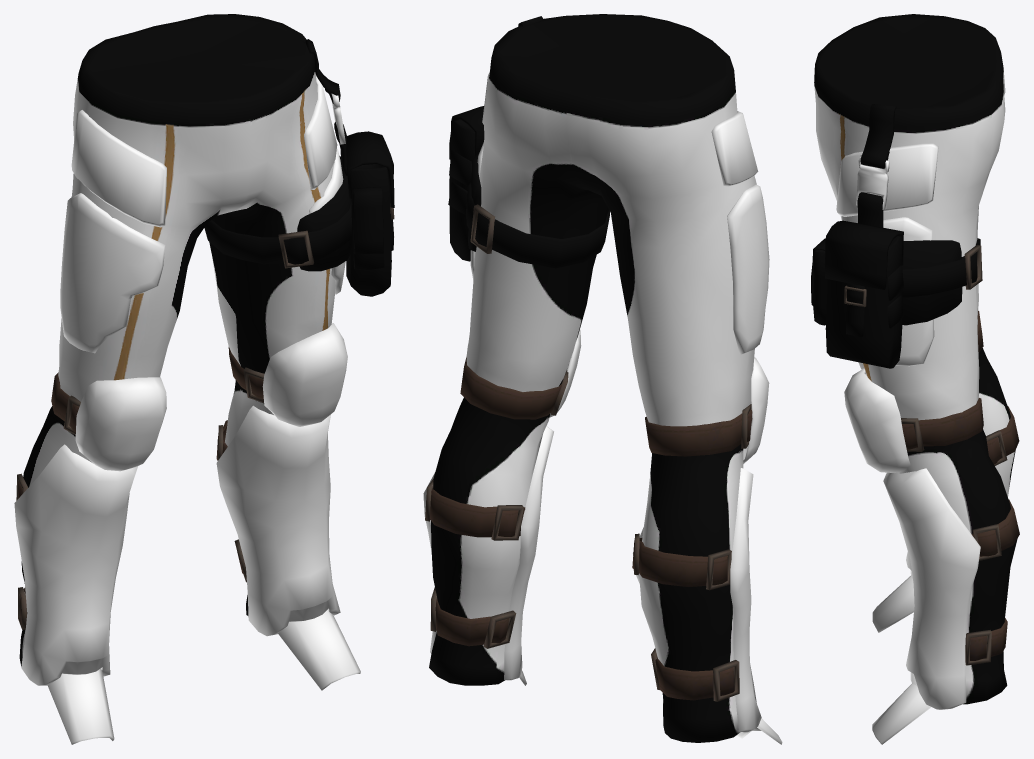
The model's file is SurvivorMale_Legs_TactPants_HardlineV2_LOD0.glb.
3 renders of one model, left to right at view 1: azimuth 30°, elevation 25°; view 2: azimuth 150°, elevation 25°; view 3: azimuth 270°, elevation 25°, orthographic. The views are drawn at different scales.
Visible parts, largest first — view 1: Hoodie; view 2: Hoodie; view 3: Hoodie.
Boxes of the visible parts, <box> form: Hoodie: <box>14,14,394,744</box>; Hoodie: <box>423,14,782,744</box>; Hoodie: <box>811,14,1019,744</box>.
Bounding box in the file's own units: 0.5238 × 0.9918 × 0.3016.
Materials: 1 (1 with a texture image).
